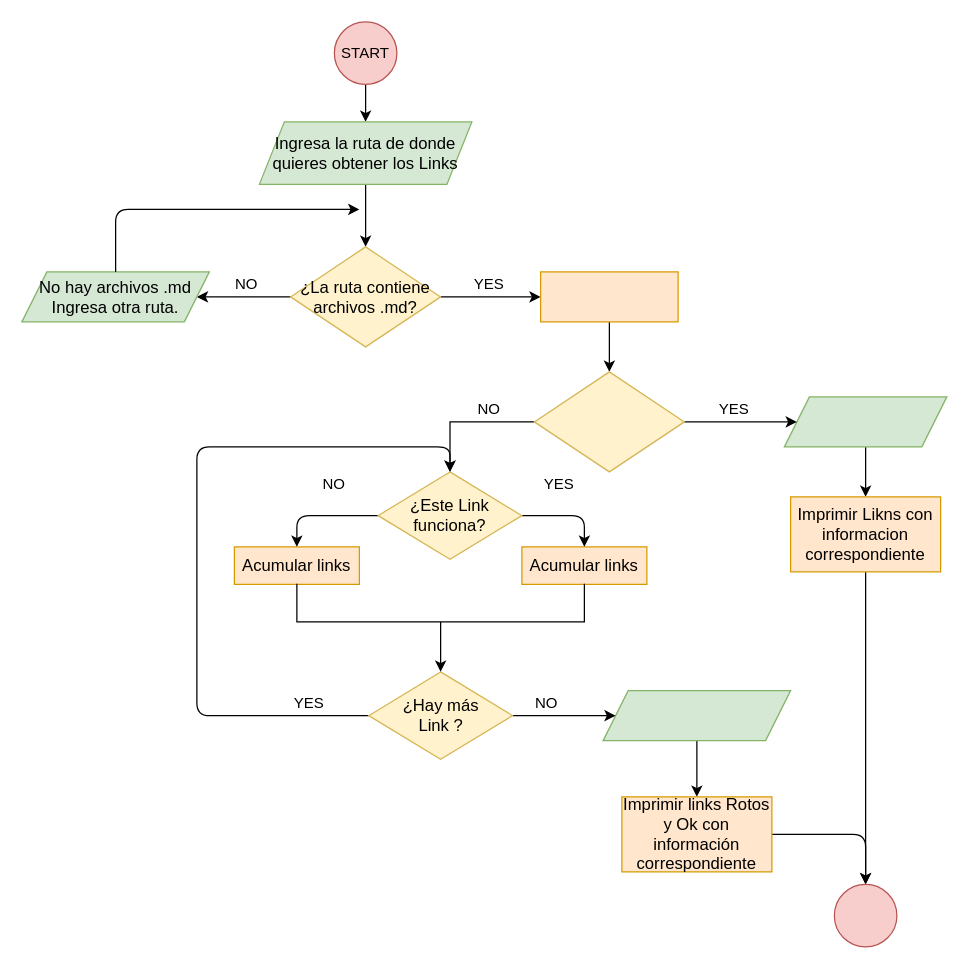
The diagram is 969 pixels wide and 969 high, and some of its shapes have lost their labels. Here are the shapes that lost their labels. From the top down, the box of each, then its label:
(539, 271, 678, 322): Obtener todos los Links
(533, 371, 684, 472): ¿Todos los links del archivo funcionan?
(783, 396, 947, 447): Todos tus links funcionan
(602, 689, 791, 741): Estos son todos los Links de la ruta ingresada
(833, 883, 897, 947): END
